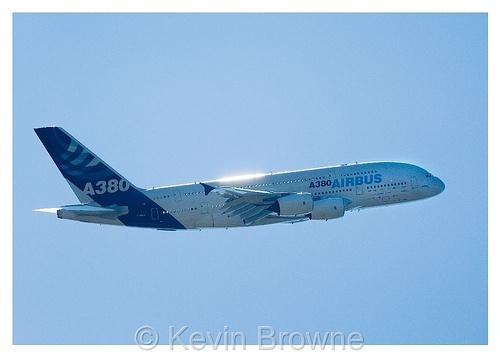aeroplane: (31, 126, 448, 234)
